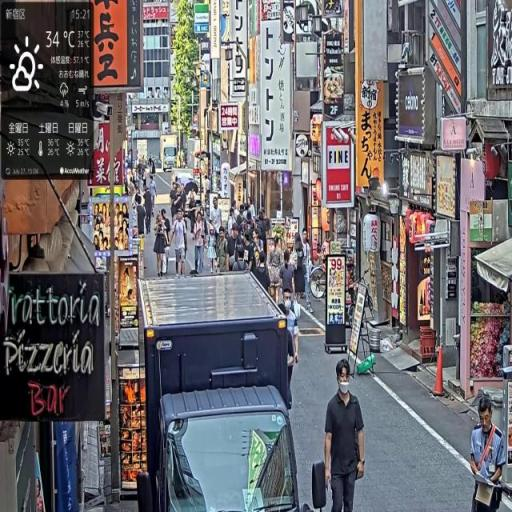person: (324, 360, 367, 512), (470, 395, 507, 512), (171, 207, 188, 279), (193, 209, 208, 276), (144, 186, 155, 236)
